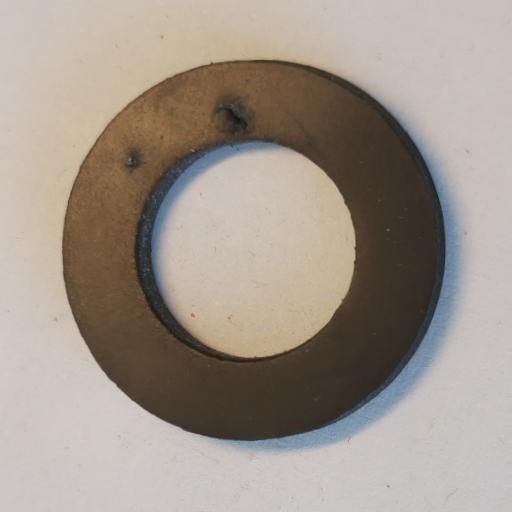defect: (213, 98, 252, 134), (124, 149, 141, 173)
